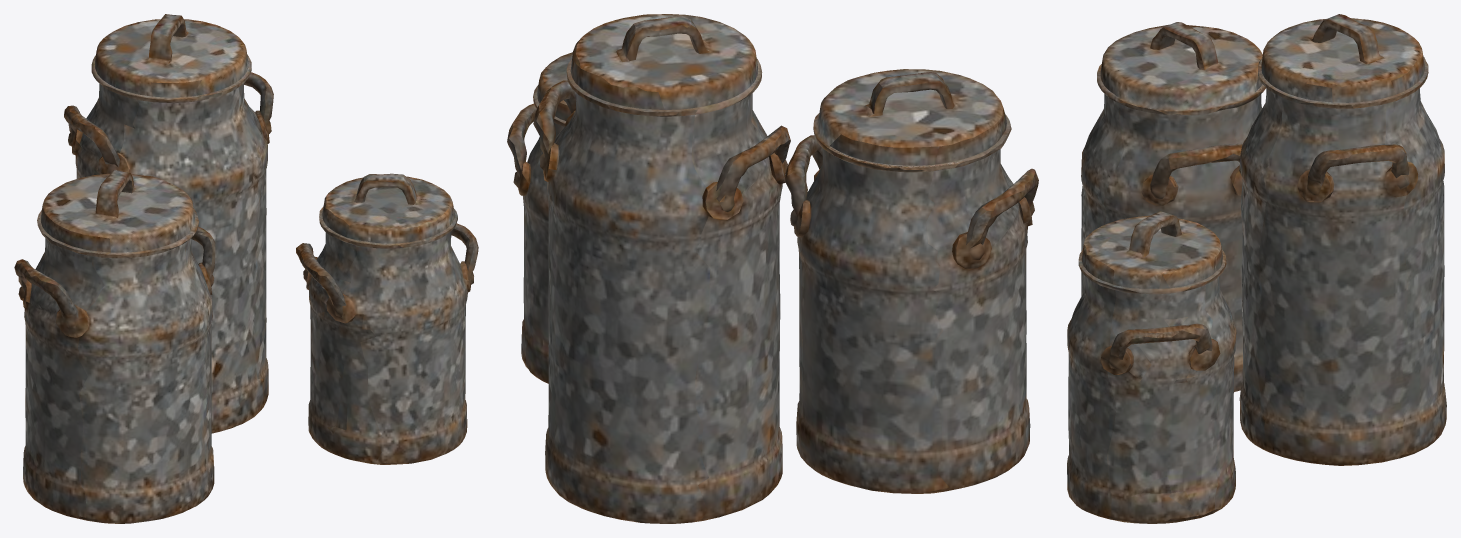
File: milk_cans_lite.glb
The picture shows the model from 3 angles, left to right: view 1: azimuth 30°, elevation 25°; view 2: azimuth 150°, elevation 25°; view 3: azimuth 270°, elevation 25°; orthographic projection. The views are drawn at different scales.
Parts seen in each view (by area): view 1: geometry_0; view 2: geometry_0; view 3: geometry_0.
Boxes of the visible parts, bbox=[...] form: geometry_0: bbox=[14, 14, 478, 523]; geometry_0: bbox=[507, 14, 1038, 523]; geometry_0: bbox=[1067, 14, 1446, 523].
Bounding box in the file's own units: 1.9 × 1.6 × 1.37.
Materials: 1 (1 with a texture image).
